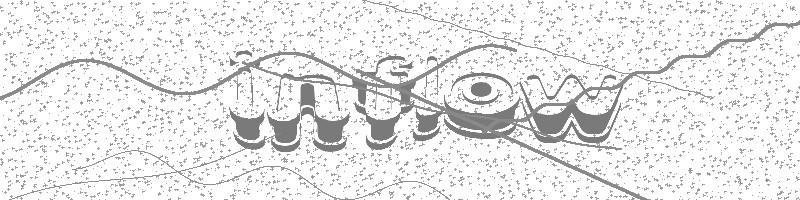f: (353, 54, 416, 151)
i: (228, 47, 267, 151)
l: (412, 55, 442, 142)
n: (267, 71, 349, 153)
o: (443, 72, 521, 141)
w: (522, 73, 624, 144)
